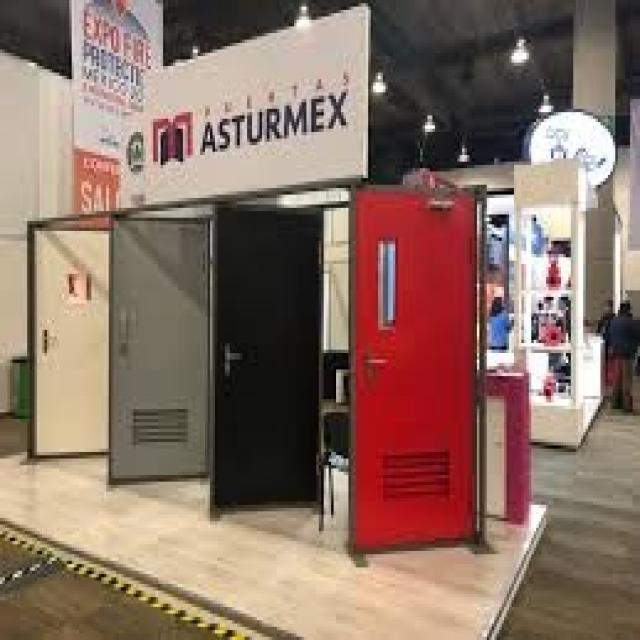door: (351, 183, 482, 553)
